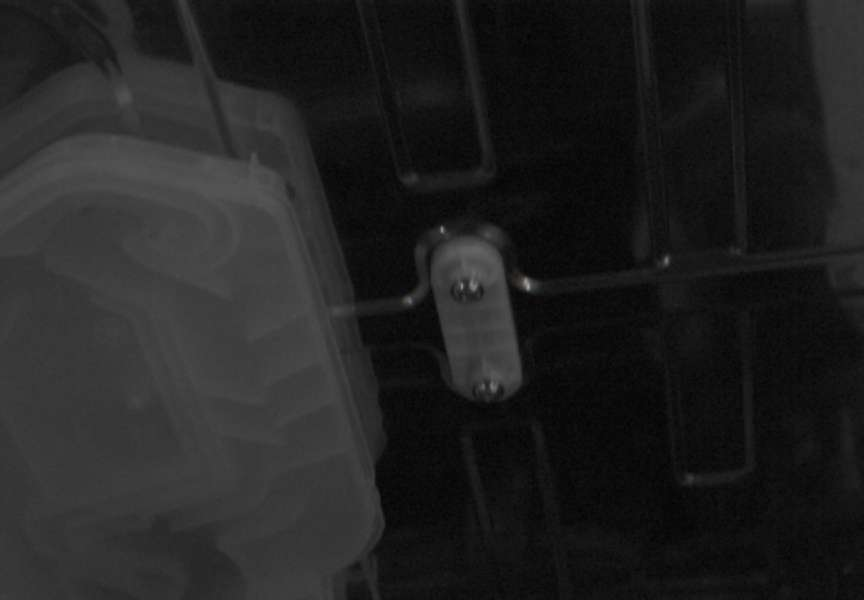screw: (451, 277, 484, 303), (473, 378, 505, 404)
